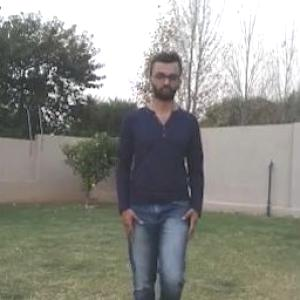follow: (116, 42, 204, 299)
